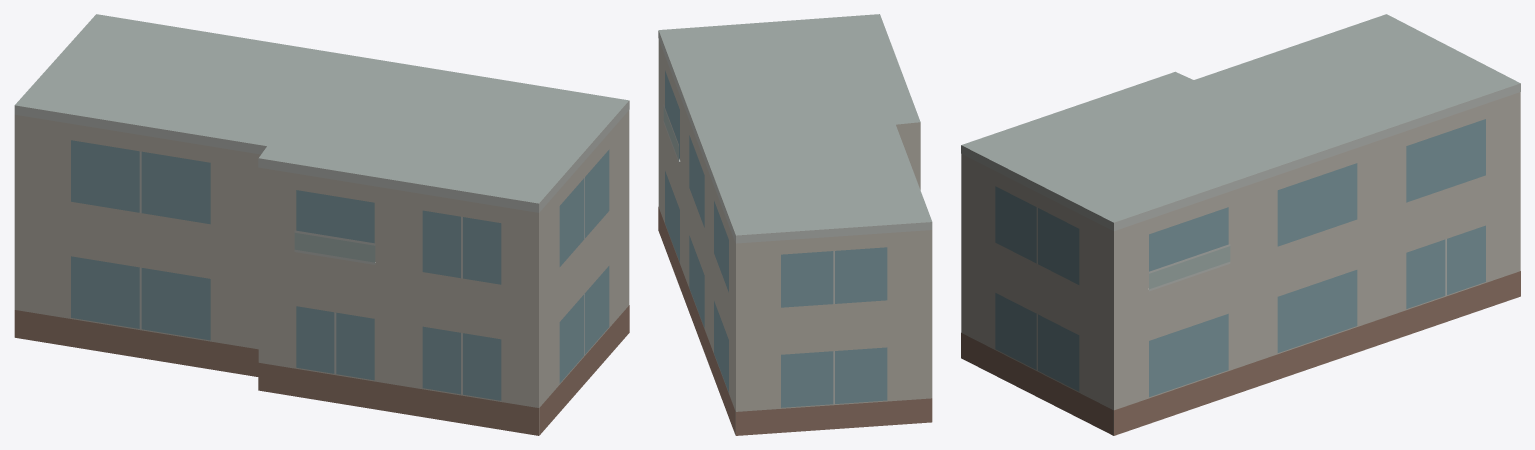
File: survey-upis-32710227.glb
The picture shows the model from 3 angles, left to right: view 1: azimuth 30°, elevation 25°; view 2: azimuth 150°, elevation 25°; view 3: azimuth 270°, elevation 25°; orthographic projection. The views are drawn at different scales.
Visible parts, largest first — view 1: survey-upis-32710227.tmp; view 2: survey-upis-32710227.tmp; view 3: survey-upis-32710227.tmp.
Part boxes in pixels (left/top/right/bottom): survey-upis-32710227.tmp: left=14, top=14, right=629, bottom=435; survey-upis-32710227.tmp: left=658, top=14, right=932, bottom=435; survey-upis-32710227.tmp: left=961, top=14, right=1520, bottom=435.
Bounding box in the file's own units: 12.82 × 6.1 × 14.52.
